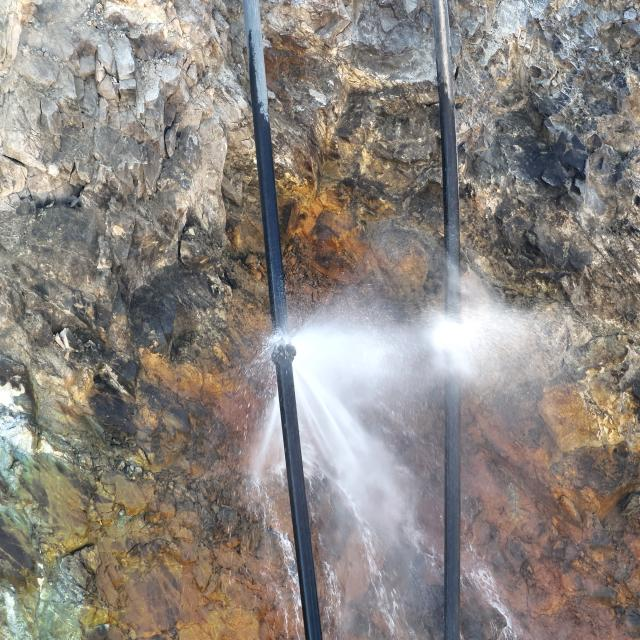leak: (226, 260, 542, 640)
